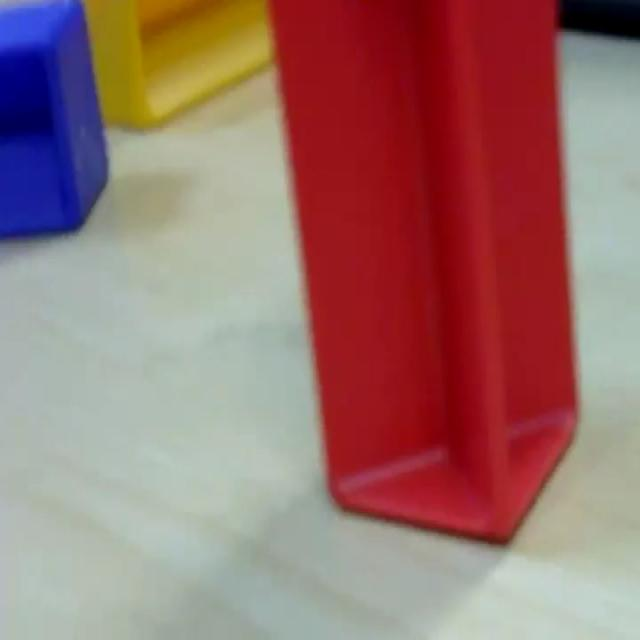blue_block: (0, 0, 109, 239)
red_block: (265, 0, 581, 544)
yellow_block: (81, 0, 273, 129)
